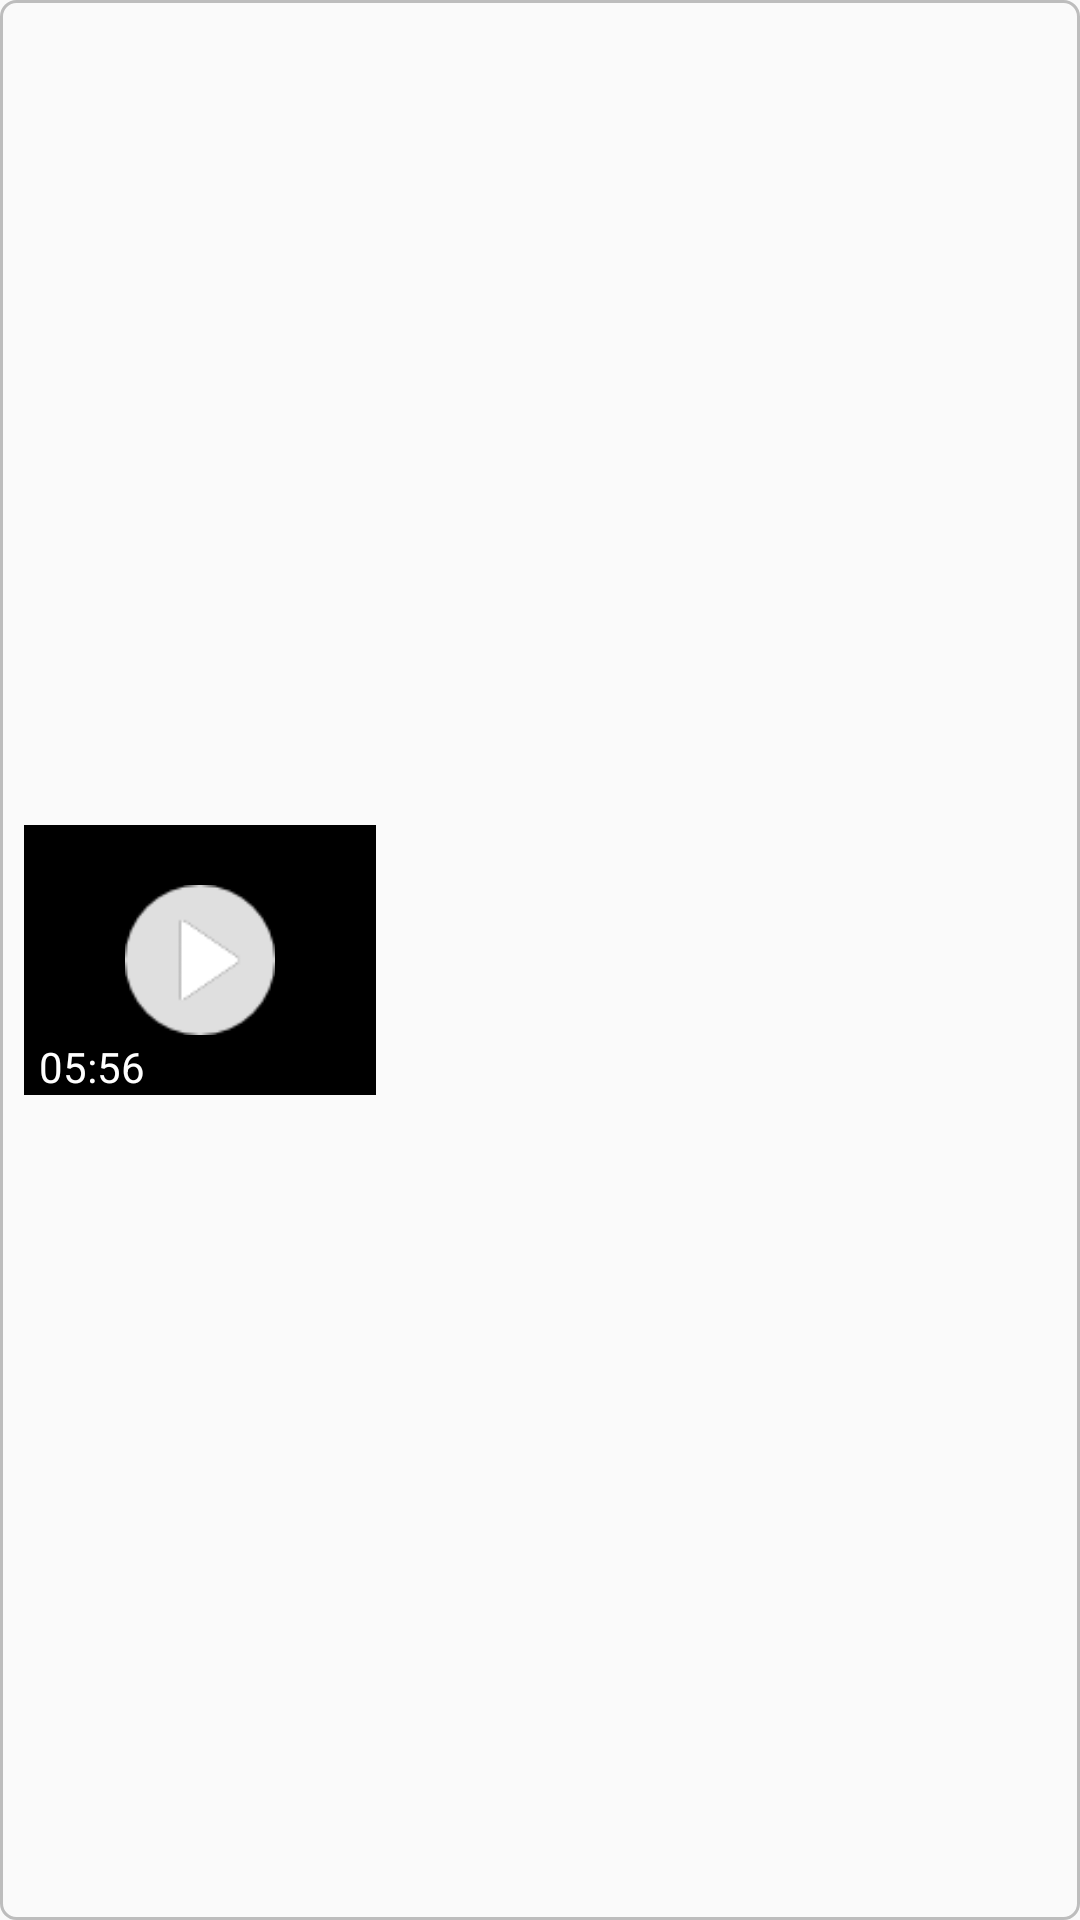

Icon click points for this 1080px×1920px phone screenshot, format point (x, y):
play: point (200, 960)
